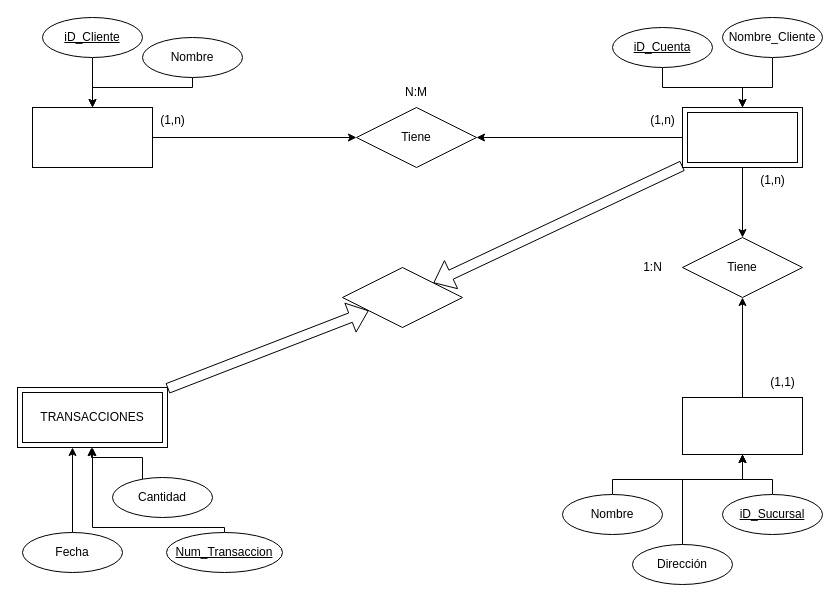
This 840x602 diagram has some shape labels left out. The centre of each missing label's shape, as x and y in pixels:
"CLIENTES" goes at [92,137].
"CUENTA" goes at [742,137].
"Relationship" goes at [402,297].
"SUCURSAL" goes at [742,425].
